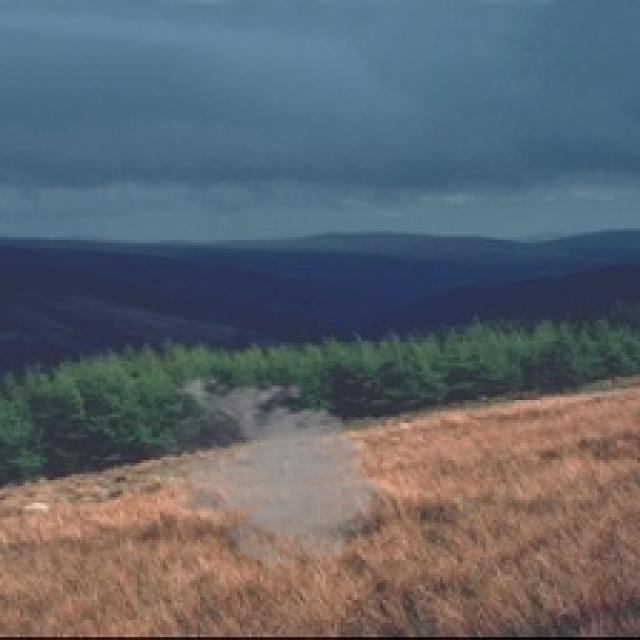smoke: (143, 371, 391, 580)
